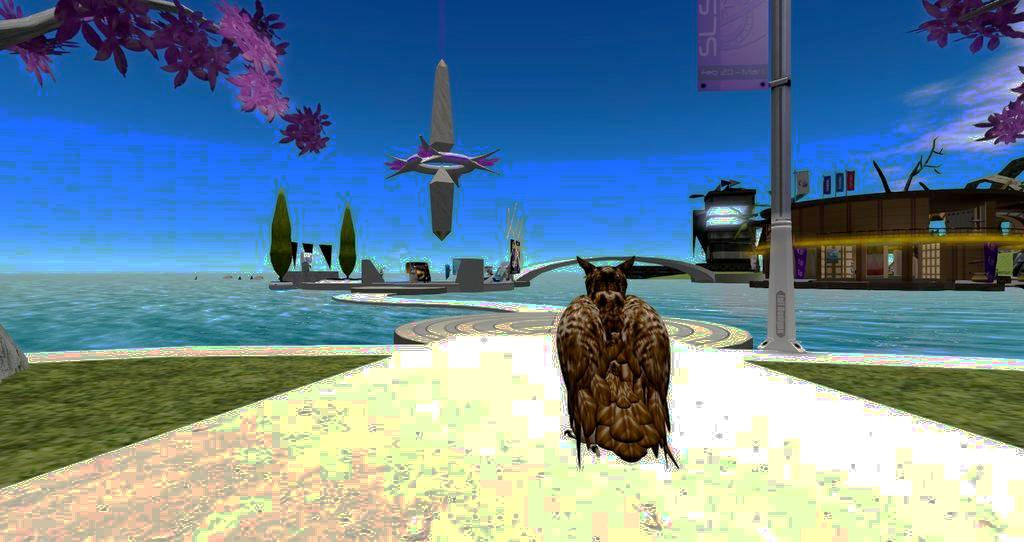Owl: (550, 252, 681, 467)
